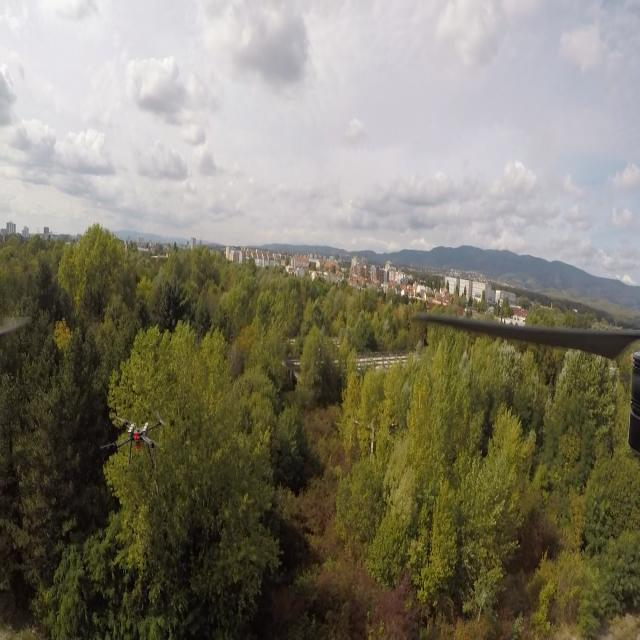UAV: (100, 410, 168, 471)
